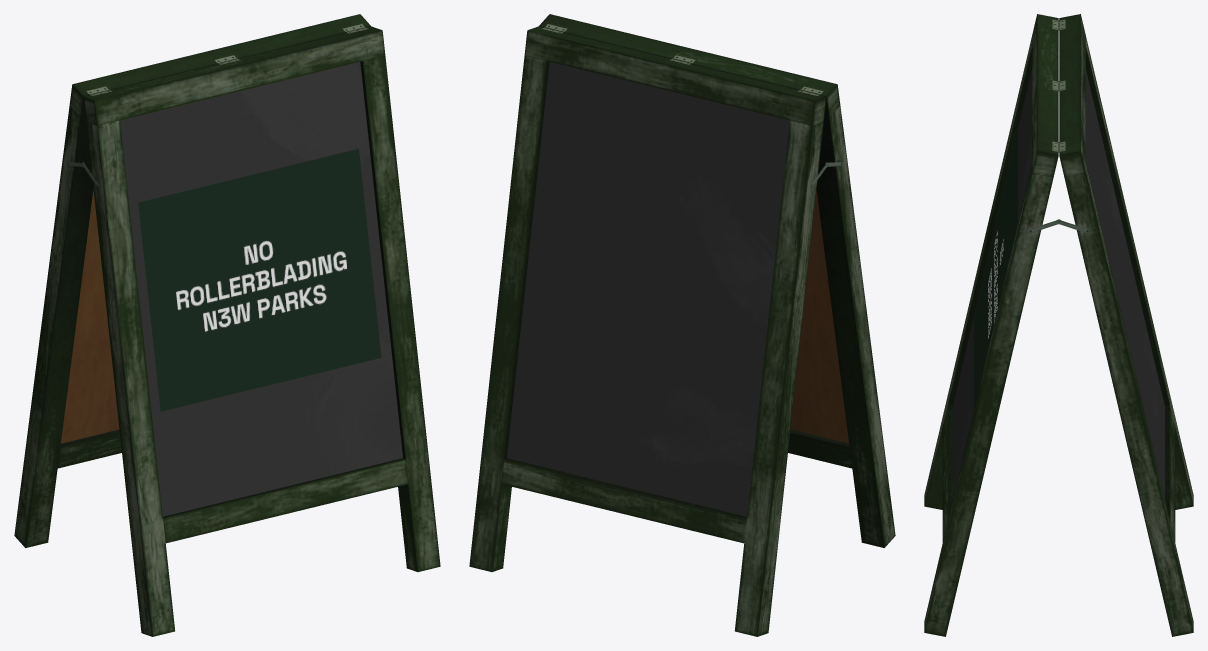
File: nyb_bigdaddy_sign.glb
The picture shows the model from 3 angles, left to right: view 1: azimuth 30°, elevation 25°; view 2: azimuth 150°, elevation 25°; view 3: azimuth 270°, elevation 25°; orthographic projection. The views are drawn at different scales.
Visible parts, largest first — view 1: standing_chalkboard_01, stk_lbl_f5e6d8de03.png; view 2: standing_chalkboard_01; view 3: standing_chalkboard_01, stk_lbl_f5e6d8de03.png.
Boxes of the visible parts, x1,y1,x2,y2 form: standing_chalkboard_01: (14, 14, 440, 636); stk_lbl_f5e6d8de03.png: (138, 149, 381, 411); standing_chalkboard_01: (469, 14, 895, 636); standing_chalkboard_01: (924, 14, 1193, 636); stk_lbl_f5e6d8de03.png: (974, 131, 1017, 408).
Size of the model in its own units: 0.9195 by 1.51 by 0.7587.
3 materials, 3 textured.
